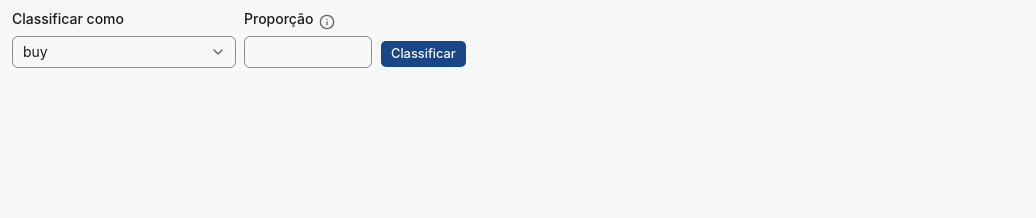
it: ClassifyForm › shows a refusal the action returns, rather than swallowing it (BR-006-15)
Click the button "Classificar" at x=423, y=54, box [380,40,467,68]
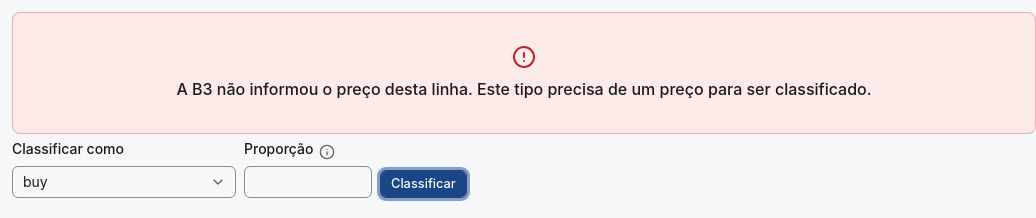
Check: the text "não informou o preço" is shown, box [176,79,872,99]
